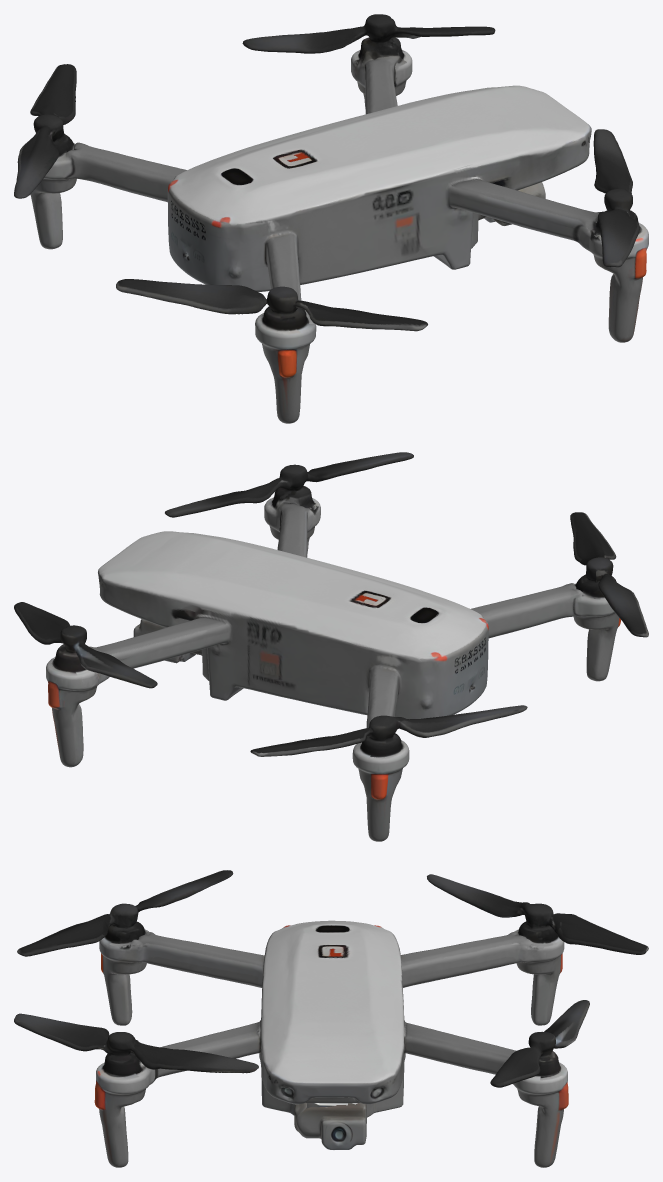
The model's file is Drone.glb.
3 views of the same model, one above another, from view 1: azimuth 30°, elevation 25°; view 2: azimuth 150°, elevation 25°; view 3: azimuth 270°, elevation 25° (orthographic). The views are drawn at different scales.
Visible parts, largest first — view 1: tripo_node_f029750c-a5ac-45f8-af63-ce6a3d1ac727; view 2: tripo_node_f029750c-a5ac-45f8-af63-ce6a3d1ac727; view 3: tripo_node_f029750c-a5ac-45f8-af63-ce6a3d1ac727.
Part boxes in pixels (x1,y1,x2,y2): tripo_node_f029750c-a5ac-45f8-af63-ce6a3d1ac727: (14,14,648,423); tripo_node_f029750c-a5ac-45f8-af63-ce6a3d1ac727: (14,452,648,841); tripo_node_f029750c-a5ac-45f8-af63-ce6a3d1ac727: (14,870,648,1167).
Bounding box in the file's own units: 0.8104 × 0.217 × 0.9485.
Materials: 1 (1 with a texture image).
